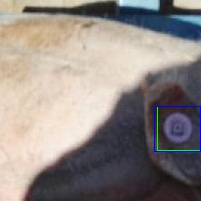text: (157, 106, 201, 150)
